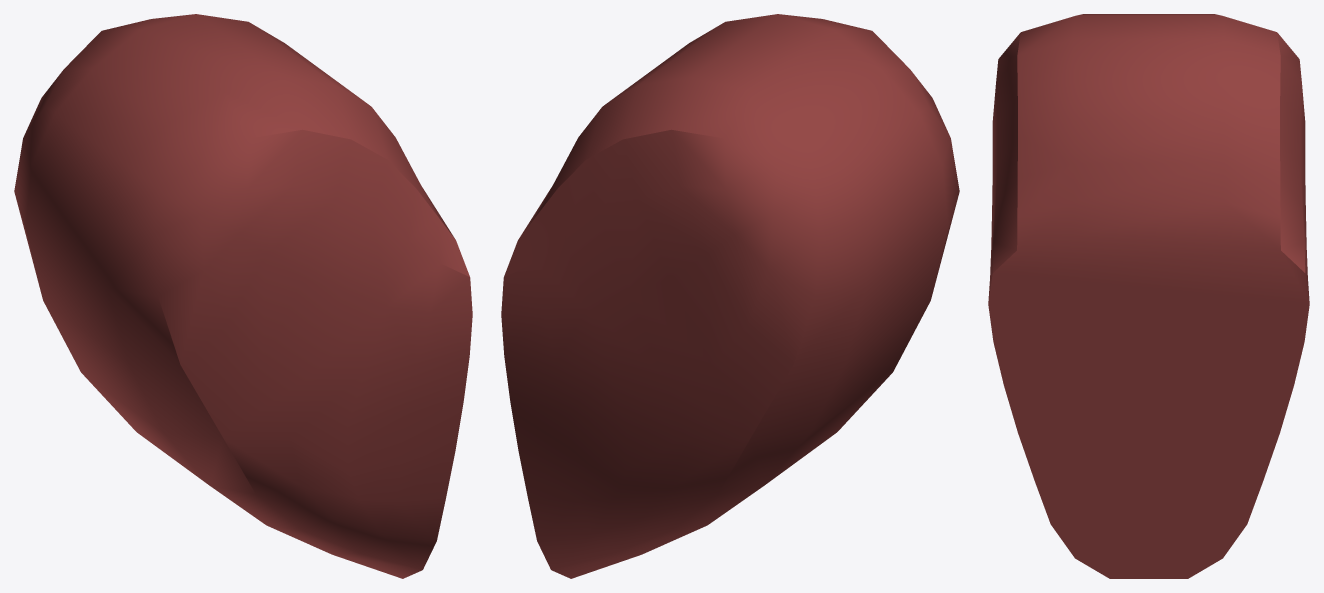
The model's file is Heart_Half.gltf.
The picture shows the model from 3 angles, left to right: view 1: azimuth 30°, elevation 25°; view 2: azimuth 150°, elevation 25°; view 3: azimuth 270°, elevation 25°; orthographic projection. The views are drawn at different scales.
Visible parts, largest first — view 1: Heart_Half; view 2: Heart_Half; view 3: Heart_Half.
Part boxes in pixels (bbox=[...]): Heart_Half: bbox=[14, 14, 472, 578]; Heart_Half: bbox=[501, 14, 959, 578]; Heart_Half: bbox=[988, 14, 1309, 578].
Size of the model in its own units: 0.7401 by 1.24 by 0.7542.
